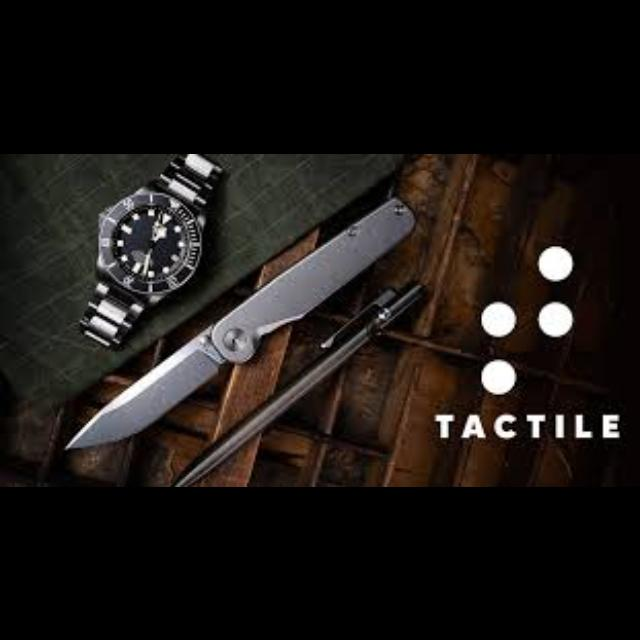Knife: (62, 192, 416, 450)
